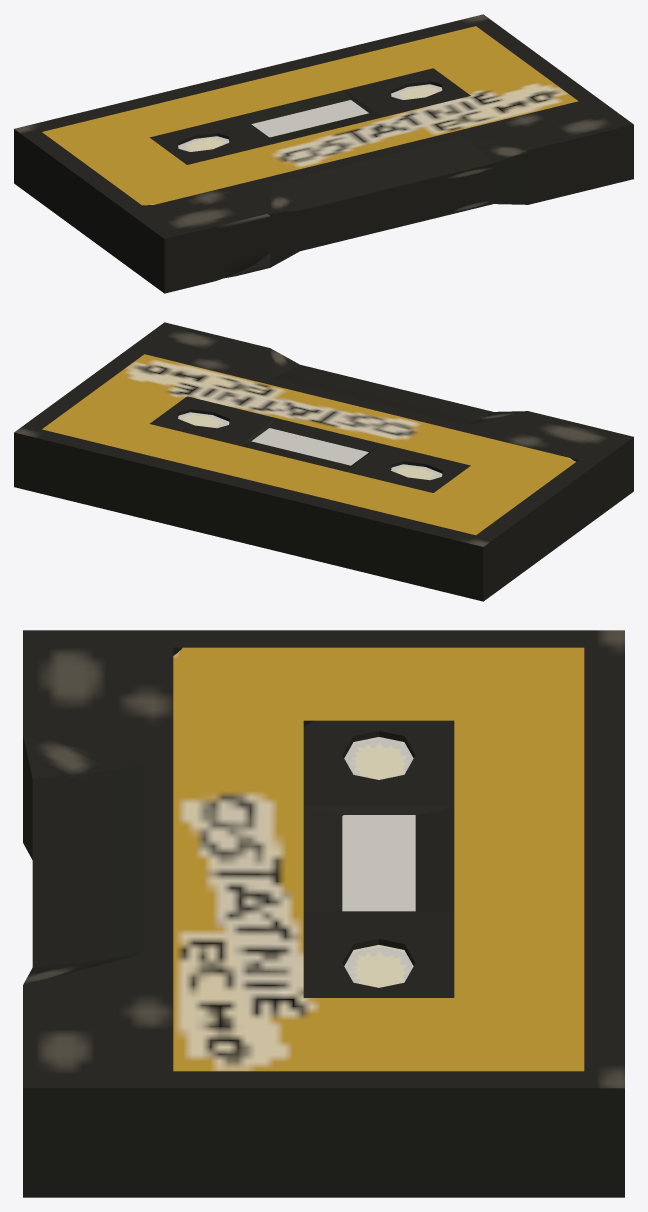
Rendered from kaseta.fbx.
The picture shows the model from 3 angles, top to bottom: view 1: azimuth 30°, elevation 25°; view 2: azimuth 150°, elevation 25°; view 3: azimuth 270°, elevation 25°; orthographic projection. The views are drawn at different scales.
Parts seen in each view (by area): view 1: Kaseta; view 2: Kaseta; view 3: Kaseta.
Boxes of the visible parts, x1=… form: Kaseta: x1=14, y1=14, x2=633, y2=293; Kaseta: x1=14, y1=322, x2=633, y2=601; Kaseta: x1=23, y1=630, x2=624, y2=1197.
Bounding box in the file's own units: 3.6 × 0.4 × 2.
Materials: 1 (1 with a texture image).
